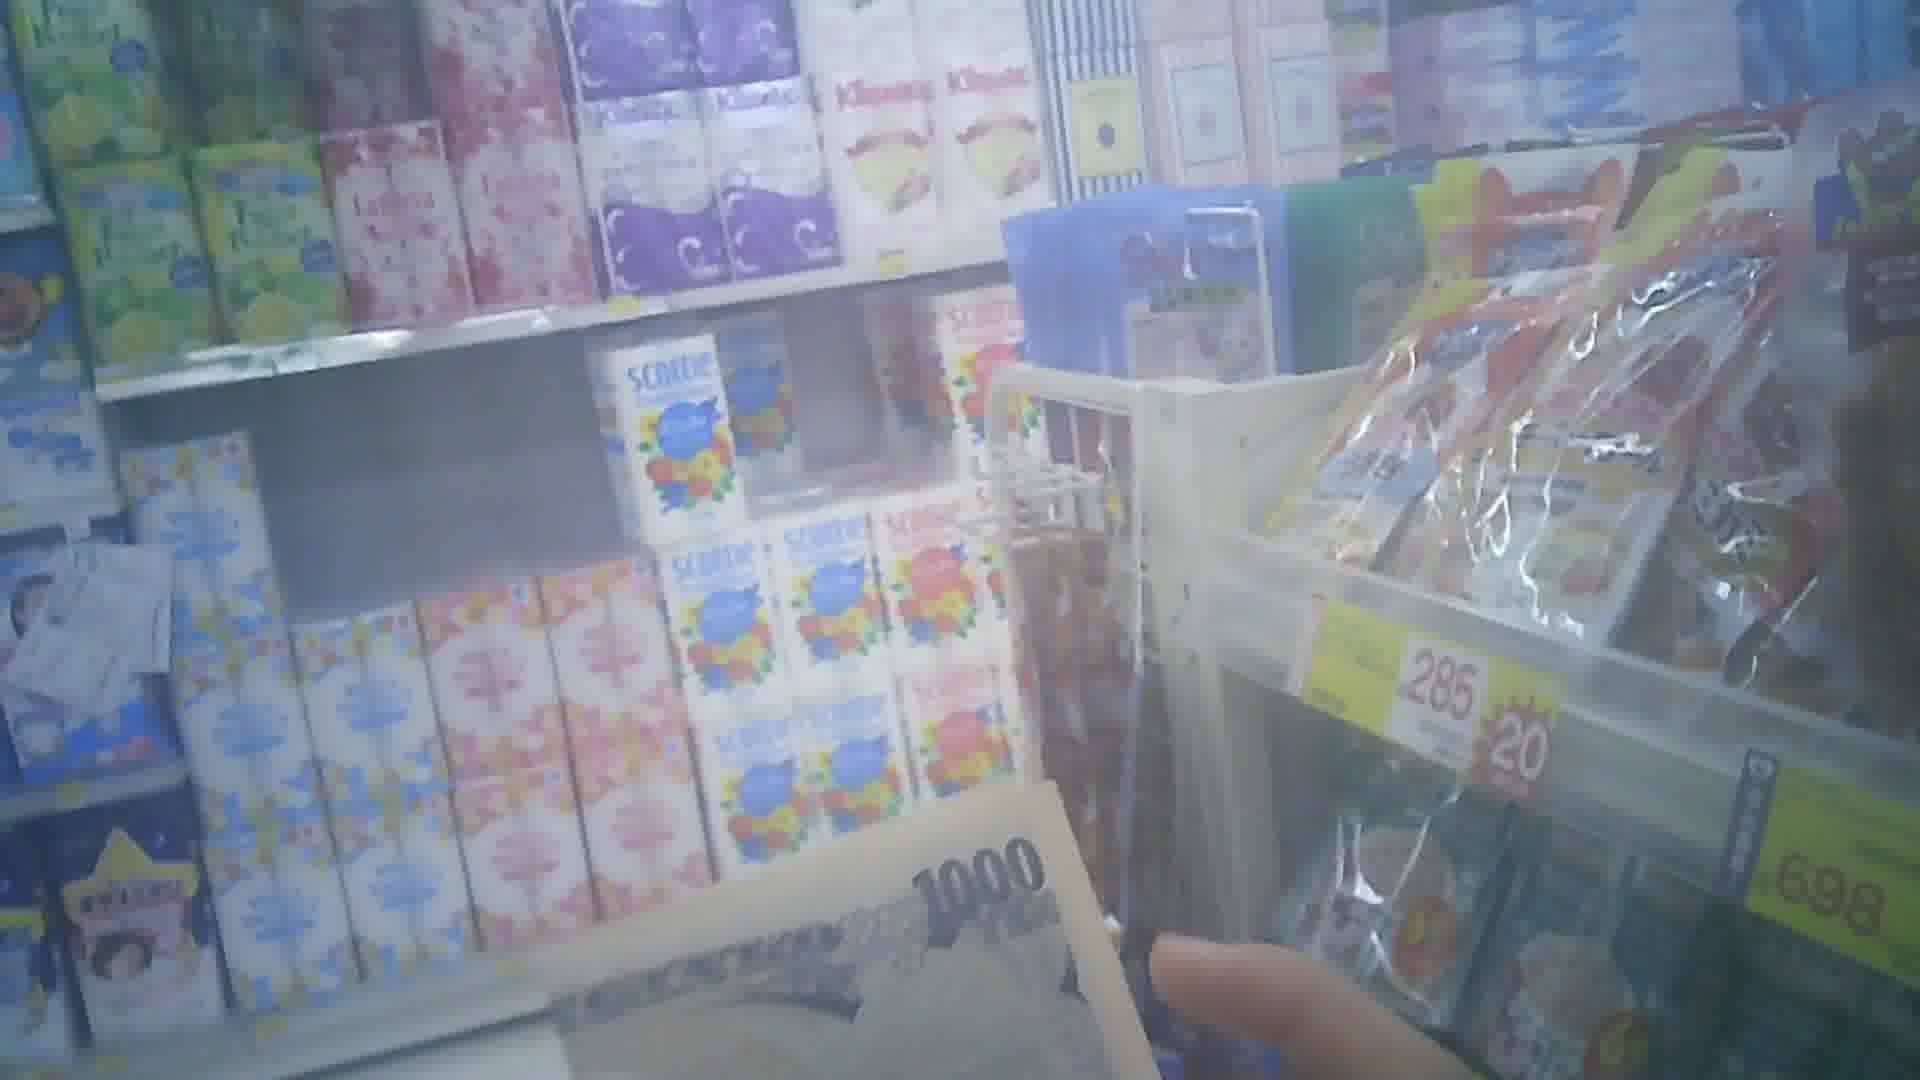1,000 Yen: (525, 766, 1150, 1069)
